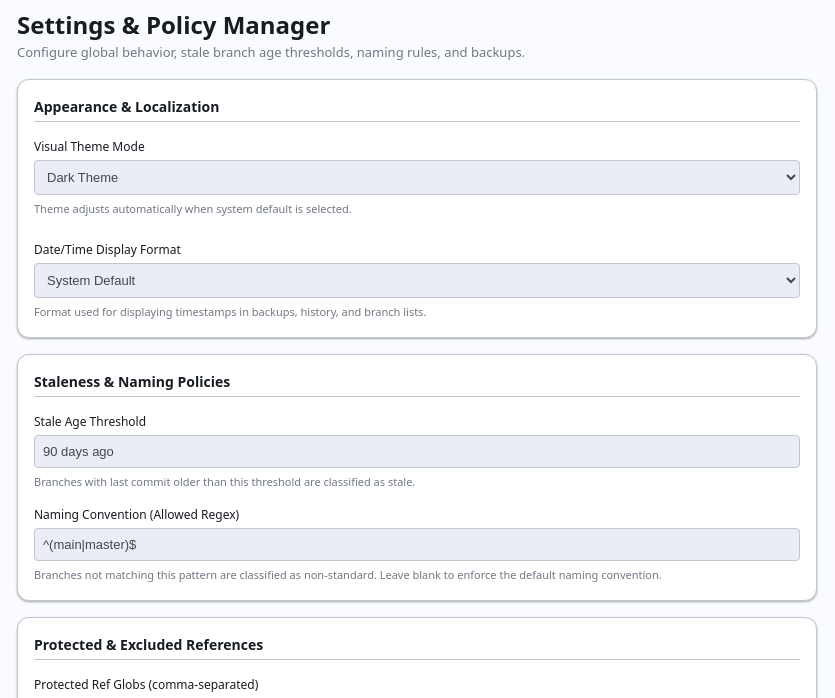
Test: SettingsView.vue › should validate naming regex pattern on input and display error
// Set invalid regex value
Replace the text in the field labelled "Naming Convention (Allowed Regex)" with "[" at (417, 544), box top-left (34, 528), bottom-right (800, 561)
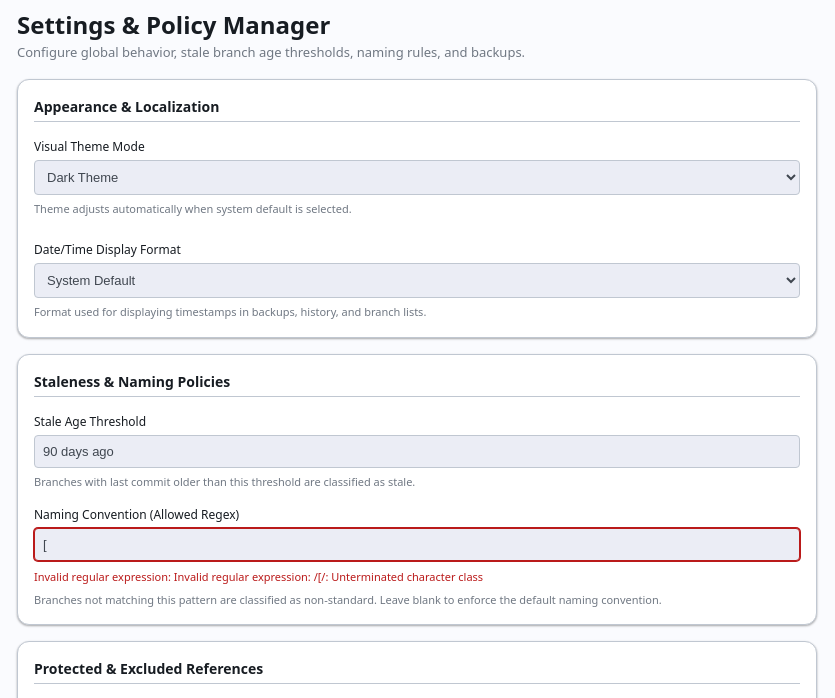
Now the text "character class" is shown, box top-left (34, 569), bottom-right (483, 584)
